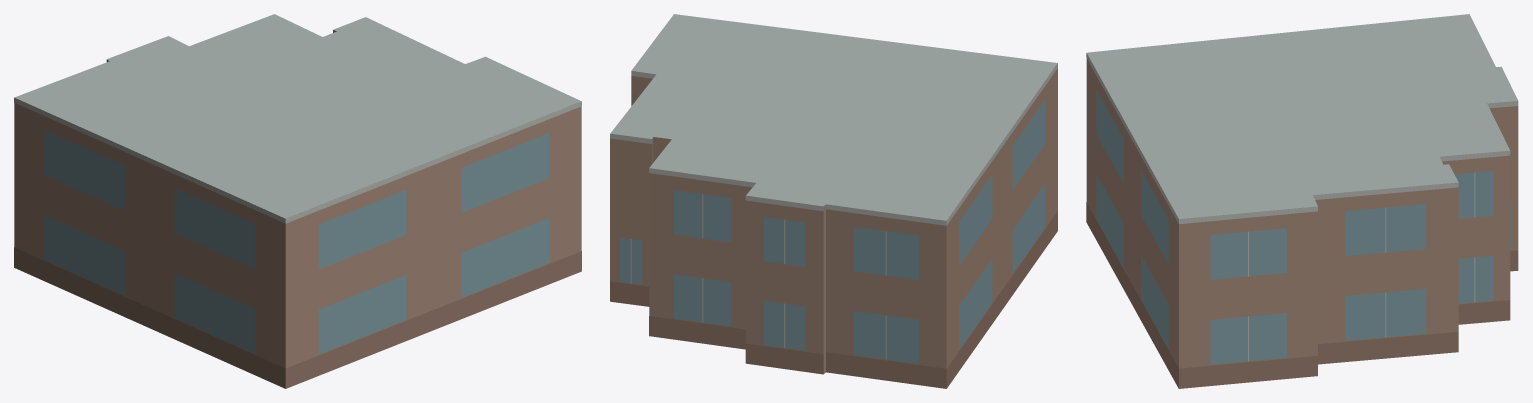
Rendered from survey-upis-32894748.glb.
3 views of the same model, side by side, from view 1: azimuth 30°, elevation 25°; view 2: azimuth 150°, elevation 25°; view 3: azimuth 270°, elevation 25° (orthographic).
Parts seen in each view (by area): view 1: survey-upis-32894748.tmp; view 2: survey-upis-32894748.tmp; view 3: survey-upis-32894748.tmp.
Boxes of the visible parts, bbox=[...] form: survey-upis-32894748.tmp: bbox=[14, 14, 581, 388]; survey-upis-32894748.tmp: bbox=[610, 14, 1057, 388]; survey-upis-32894748.tmp: bbox=[1086, 14, 1518, 388].
Bounding box in the file's own units: 21.54 × 8.3 × 19.16.
